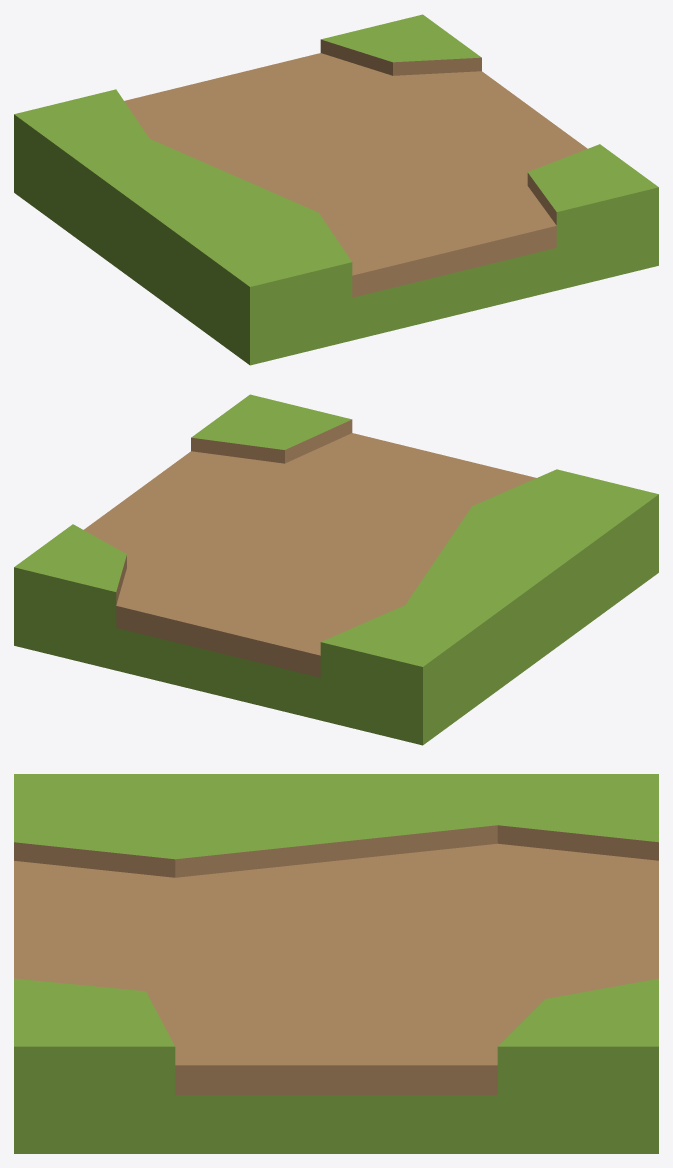
The model's file is path-dirt-two-way-grass.obj.
3 renders of one model, top to bottom at view 1: azimuth 30°, elevation 25°; view 2: azimuth 150°, elevation 25°; view 3: azimuth 270°, elevation 25°, orthographic. The views are drawn at different scales.
Parts seen in each view (by area): view 1: Mesh1_Group1_Model.012; view 2: Mesh1_Group1_Model.012; view 3: Mesh1_Group1_Model.012.
Boxes of the visible parts, x1,y1,x2,y2 form: Mesh1_Group1_Model.012: (14, 14, 658, 365); Mesh1_Group1_Model.012: (14, 394, 658, 745); Mesh1_Group1_Model.012: (14, 774, 658, 1153).
Size of the model in its own units: 3 by 0.55 by 3.
